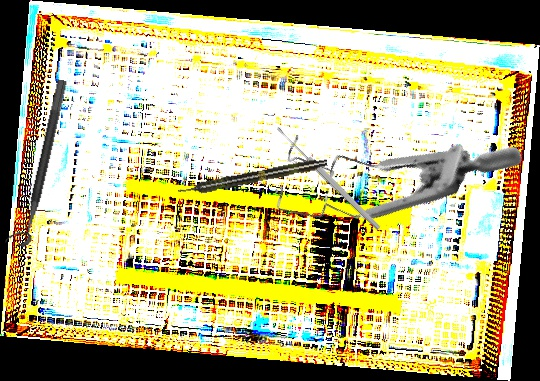Fixation Ring: (4, 75, 69, 249)
Handpiece: (176, 156, 329, 198)
Speculum: (248, 33, 527, 300)
Surgical Spoon: (274, 123, 383, 233)
